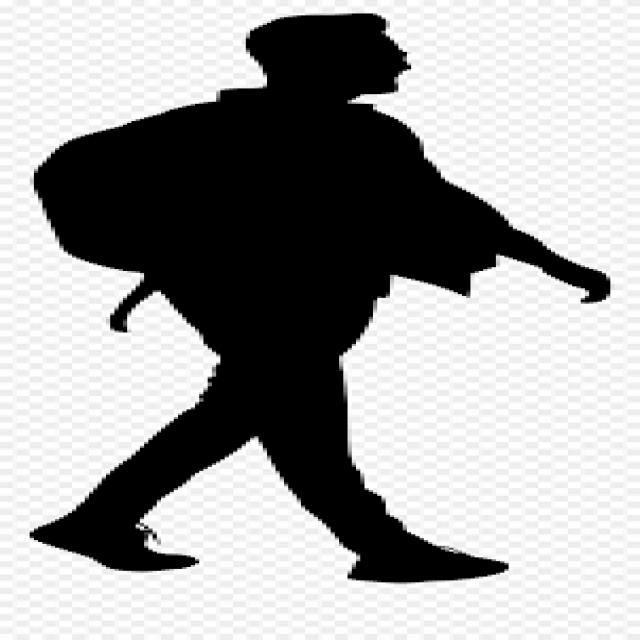Person: (28, 10, 614, 586)
